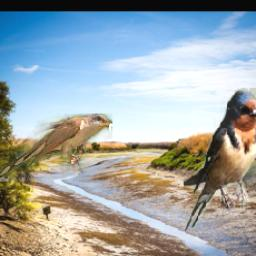Cuckoo: (0, 114, 114, 182)
Swallow: (185, 88, 256, 232)
